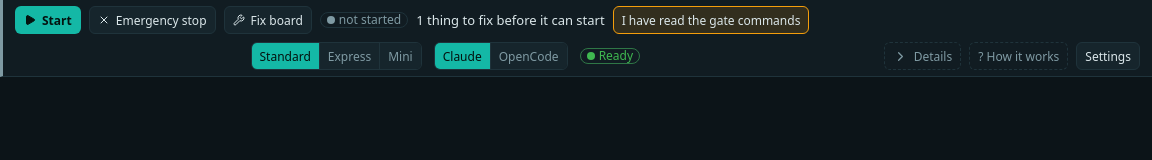
Test: the gate acknowledgement › clears the flag and takes itself away
This screenshot has width=1152, height=160.
Click the button with test id "ap-review-gates" at (711, 20), box top-left (613, 6), bottom-right (809, 34)
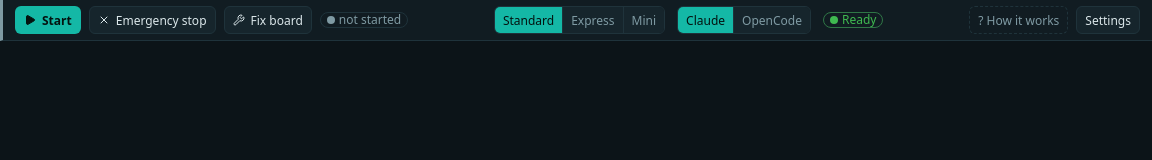
Expected: the button with test id "ap-review-gates" is gone
